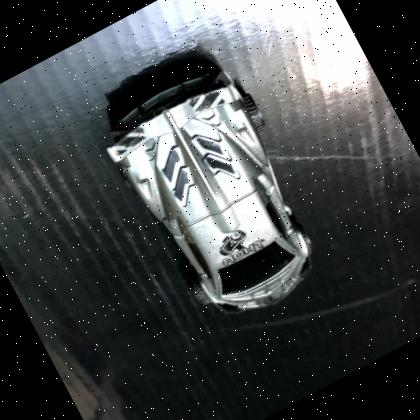Car: (106, 56, 311, 312)
